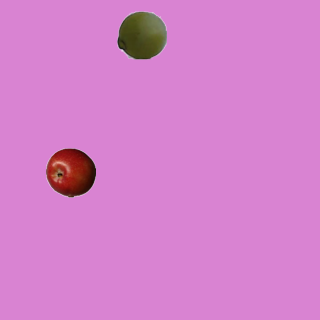Apple Braeburn: (45, 147, 95, 197)
Grape White 4: (116, 9, 166, 59)
